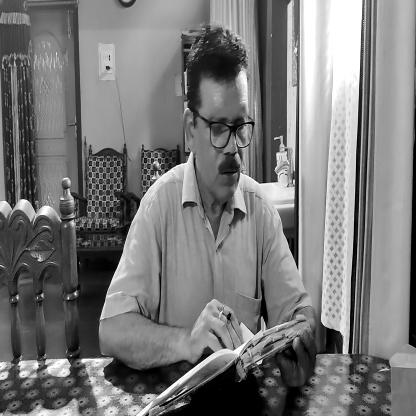Normal: (178, 21, 256, 213)
